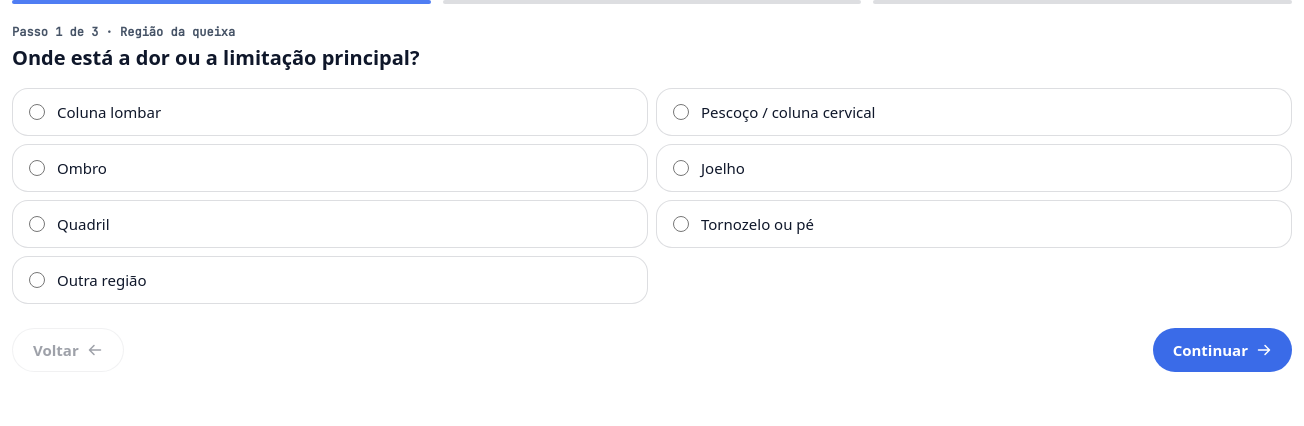
Test case: <TriageFlow /> › pede uma opção antes de avançar
Click the button "Continuar": x=1222, y=350 [1153,328,1292,372]
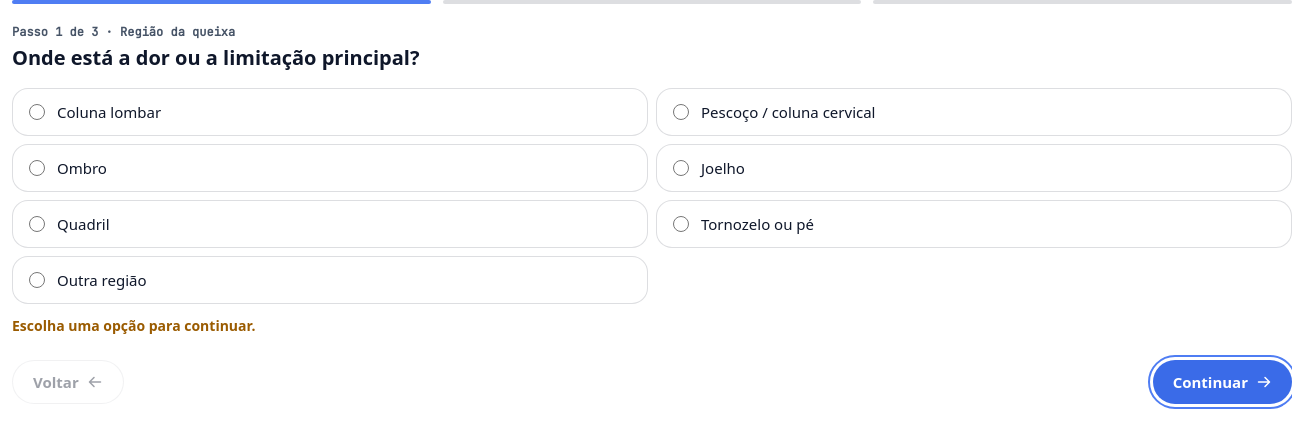
Expected: the text "Passo 1 de 3 · Região da queixa" is shown, [12,24,235,40]
Now the message shows "Escolha uma opção", box [12,316,256,335]
